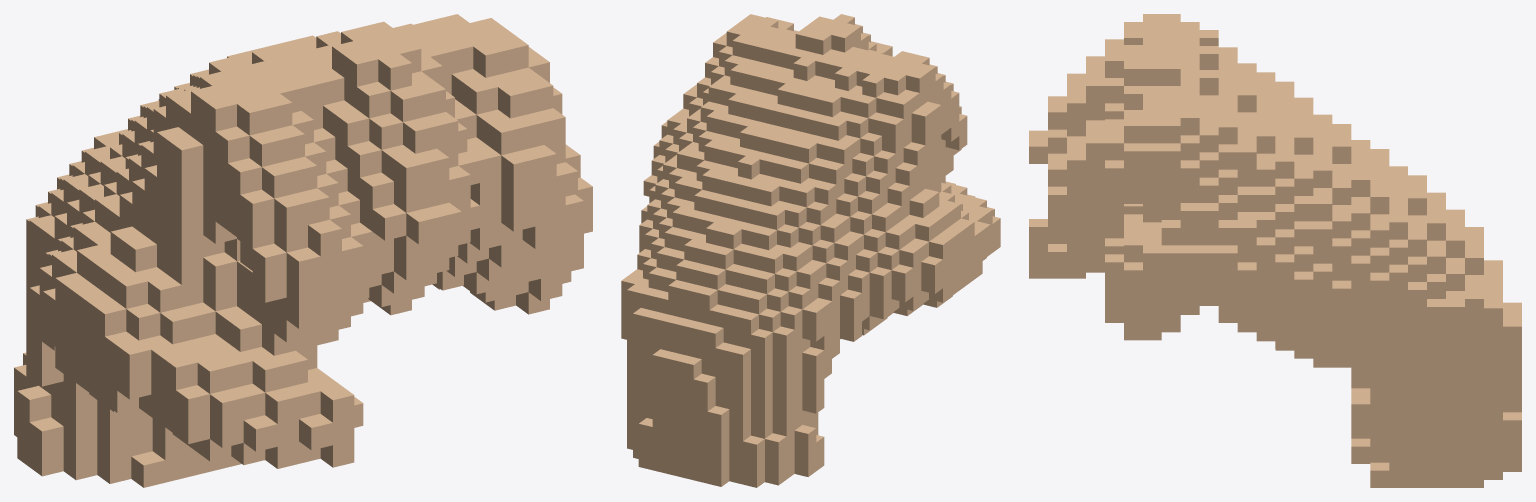
File: maofnova.glb
3 views of the same model, side by side, from view 1: azimuth 30°, elevation 25°; view 2: azimuth 150°, elevation 25°; view 3: azimuth 270°, elevation 25° (orthographic). The views are drawn at different scales.
Parts seen in each view (by area): view 1: hand.1164, hand.442, hand.446, hand.576, hand.626, hand.013, hand.052, hand.441, hand.448, hand.454, hand.784, hand.801 (+98 smaller); view 2: hand.103, hand.162, hand.646, hand.701, hand.013, hand.107, hand.167, hand.260, hand.340, hand.425, hand.428, hand.437 (+73 smaller); view 3: no part large enough to name.
Boxes of the visible parts, <box> form: hand.1164: <box>347,141,381,177</box>; hand.442: <box>92,300,126,336</box>; hand.446: <box>163,353,197,389</box>; hand.576: <box>243,415,277,451</box>; hand.626: <box>320,386,354,422</box>; hand.013: <box>17,385,51,422</box>; hand.052: <box>131,451,165,487</box>; hand.441: <box>117,340,151,377</box>; hand.448: <box>126,304,160,340</box>; hand.454: <box>197,357,231,393</box>; hand.784: <box>252,356,286,392</box>; hand.801: <box>252,243,286,280</box>; hand.103: <box>707,406,729,429</box>; hand.162: <box>772,326,794,349</box>; hand.646: <box>895,162,917,185</box>; hand.701: <box>830,141,852,164</box>; hand.013: <box>794,425,816,448</box>; hand.107: <box>693,373,715,396</box>; hand.167: <box>780,306,802,329</box>; hand.260: <box>701,324,723,347</box>; hand.340: <box>719,226,741,249</box>; hand.425: <box>869,267,891,290</box>; hand.428: <box>877,246,899,269</box>; hand.437: <box>909,194,931,217</box>.
Size of the model in its own units: 12.6 by 13.8 by 15.6.
